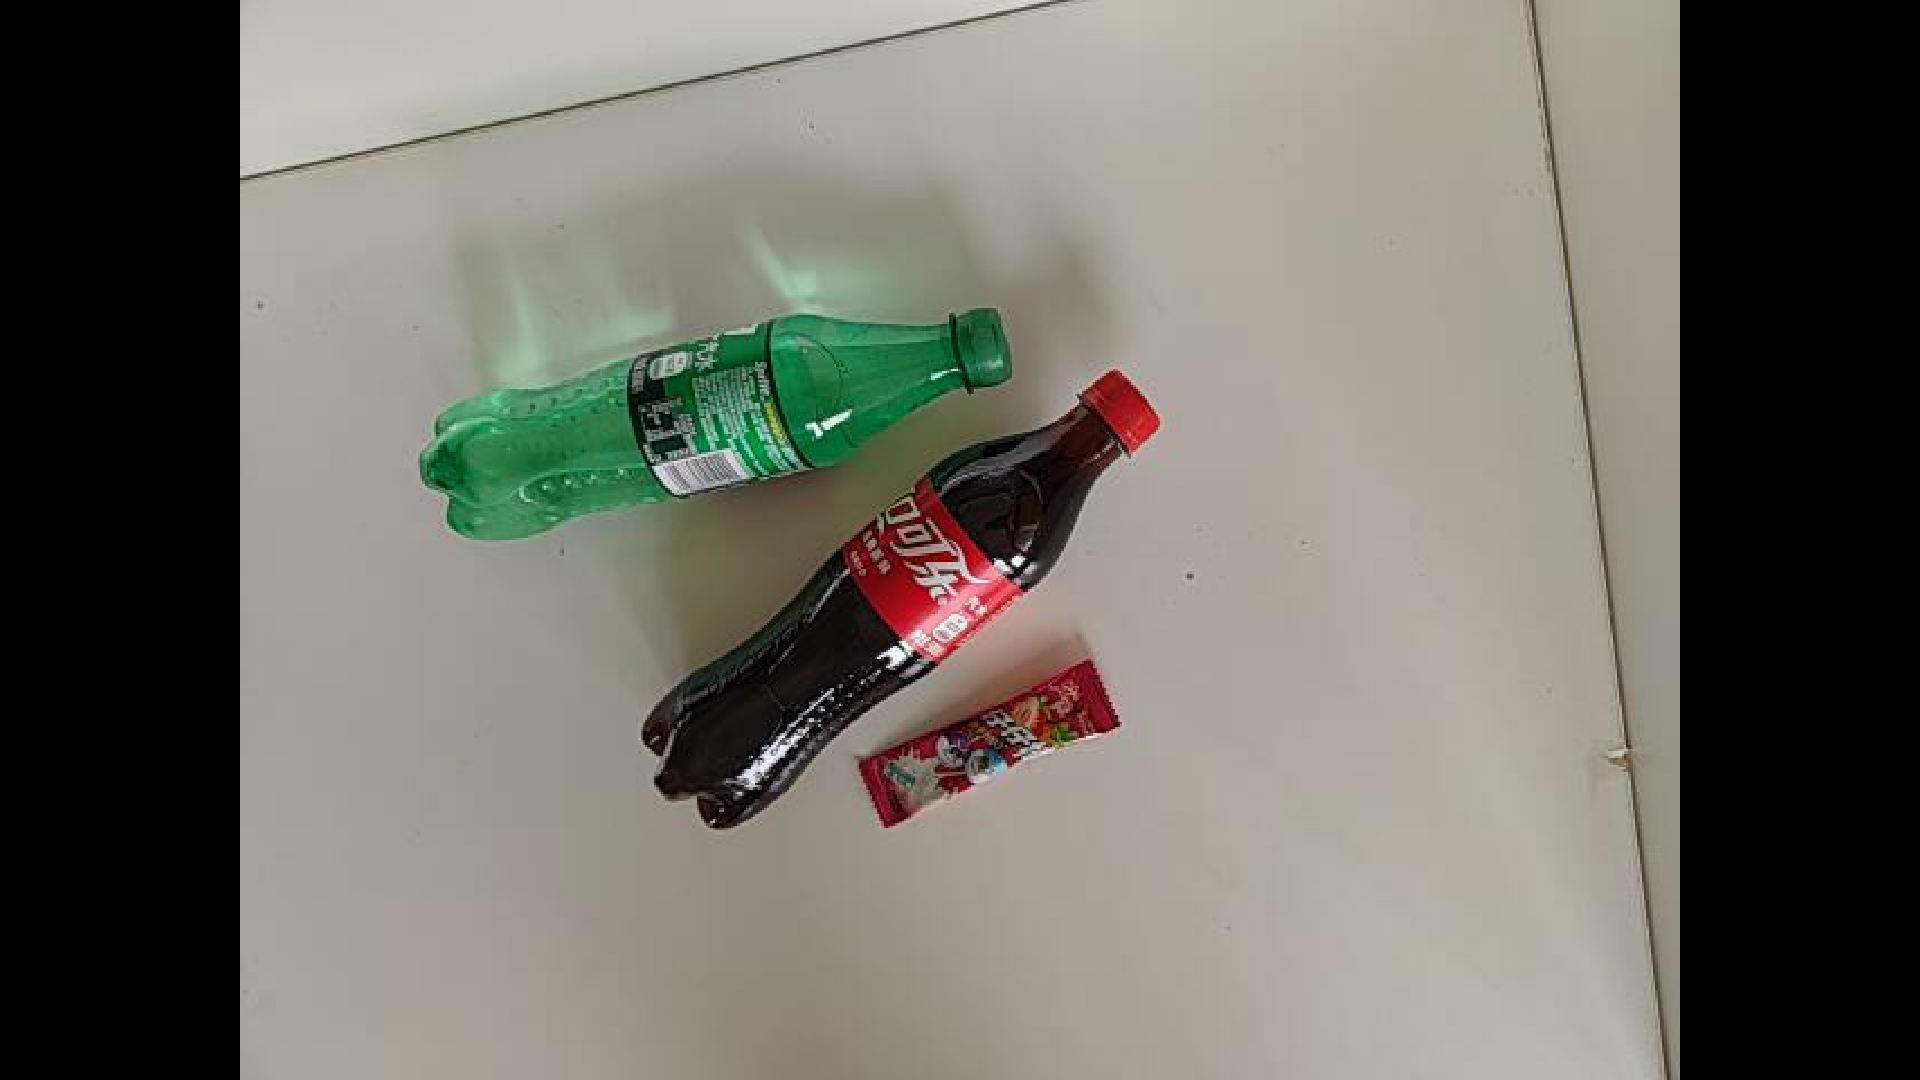cola: (237, 327, 1195, 807)
sprite: (401, 326, 1058, 563)
sugar: (823, 649, 1126, 789)
